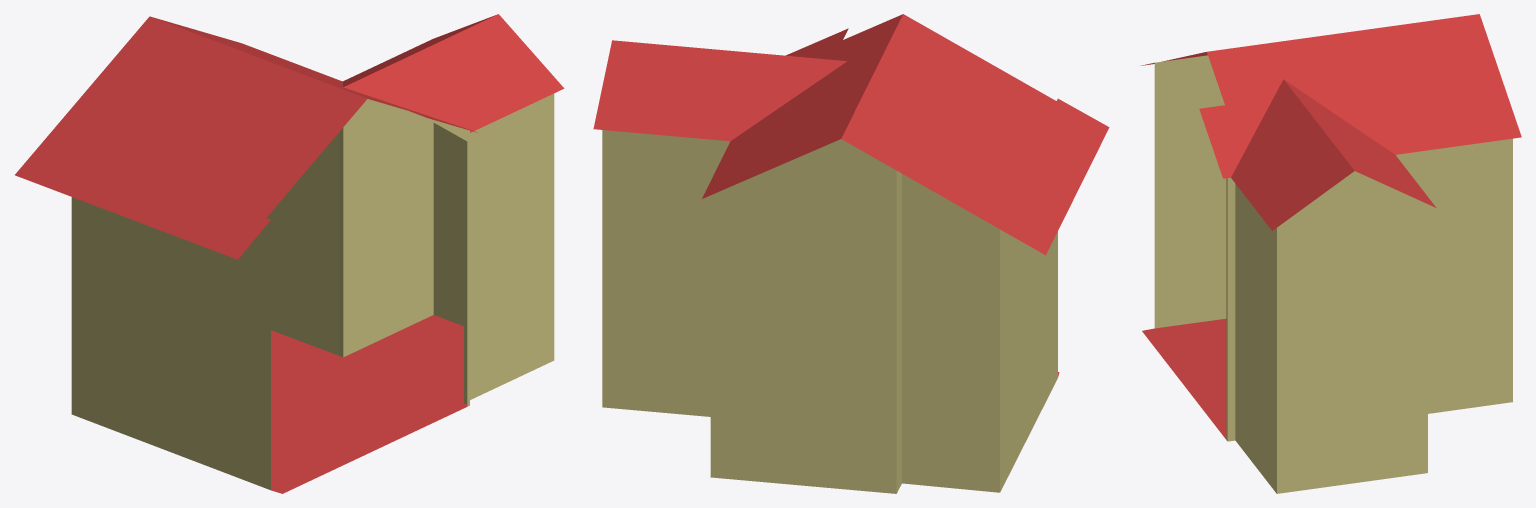
3 views of the same model, side by side, from view 1: azimuth 30°, elevation 25°; view 2: azimuth 150°, elevation 25°; view 3: azimuth 270°, elevation 25° (orthographic). The views are drawn at different scales.
Size of the model in its own units: 19.02 by 13.54 by 13.06.
